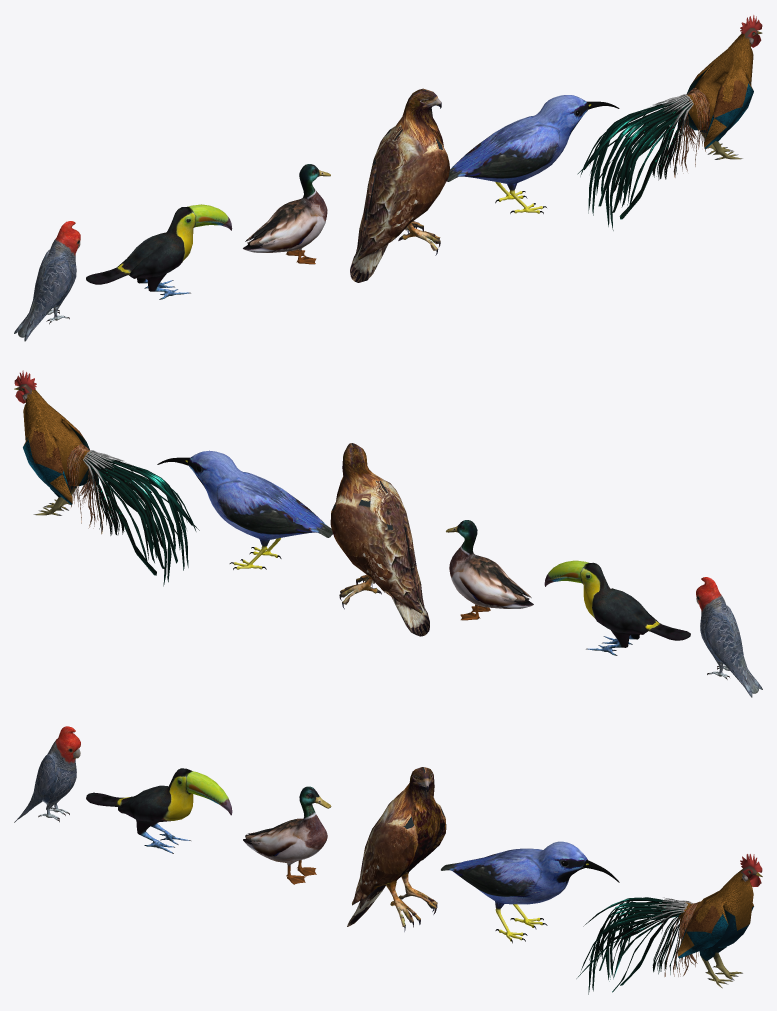
The model's file is Birds.fbx.
3 views of the same model, one above another, from view 1: azimuth 30°, elevation 25°; view 2: azimuth 150°, elevation 25°; view 3: azimuth 330°, elevation 25° (orthographic).
Parts seen in each view (by area): view 1: Rooster, Eagle, Sparrow, Toucan, Duck, Parrot; view 2: Rooster, Eagle, Sparrow, Toucan, Duck, Parrot; view 3: Rooster, Eagle, Sparrow, Toucan, Duck, Parrot.
Part boxes in pixels (x1,y1,x2,y2): Rooster: [577, 15, 762, 230]; Eagle: [350, 88, 449, 282]; Sparrow: [447, 95, 619, 213]; Toucan: [86, 204, 232, 299]; Duck: [243, 164, 330, 264]; Parrot: [14, 221, 80, 341]; Rooster: [14, 370, 199, 586]; Eagle: [330, 443, 429, 636]; Sparrow: [157, 450, 332, 569]; Toucan: [544, 560, 690, 655]; Duck: [446, 520, 533, 620]; Parrot: [696, 577, 762, 697]; Rooster: [576, 854, 762, 994]; Eagle: [347, 767, 446, 931]; Sparrow: [441, 841, 619, 943]; Toucan: [86, 768, 232, 853]; Duck: [243, 786, 331, 884]; Parrot: [14, 726, 80, 822].
Bounding box in the file's own units: 2312 × 524 × 282.
